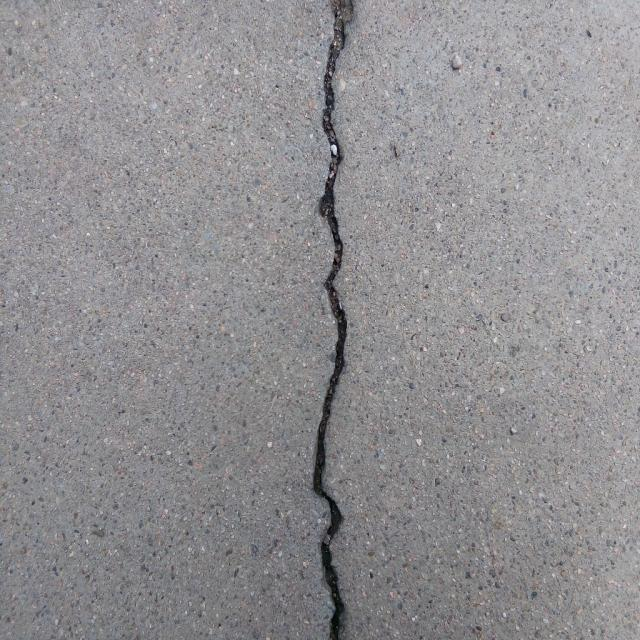cracks: (298, 0, 379, 640)
